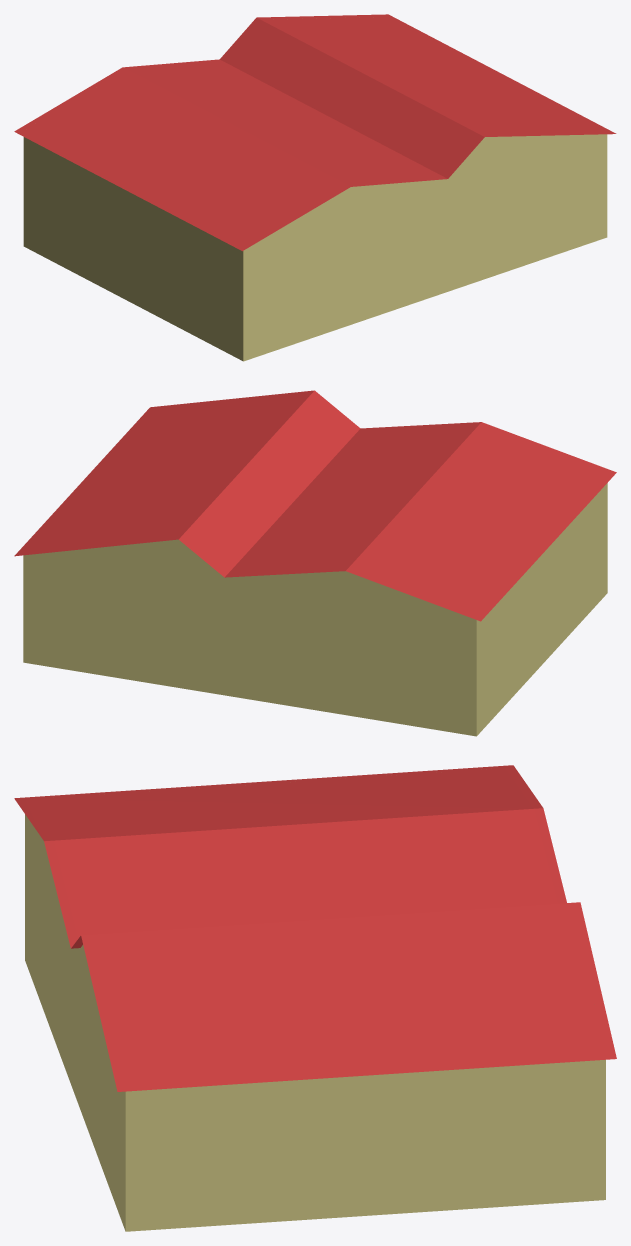
3 renders of one model, top to bottom at view 1: azimuth 30°, elevation 25°; view 2: azimuth 150°, elevation 25°; view 3: azimuth 270°, elevation 25°, orthographic. The views are drawn at different scales.
Bounding box in the file's own units: 38.11 × 31.09 × 11.54.
